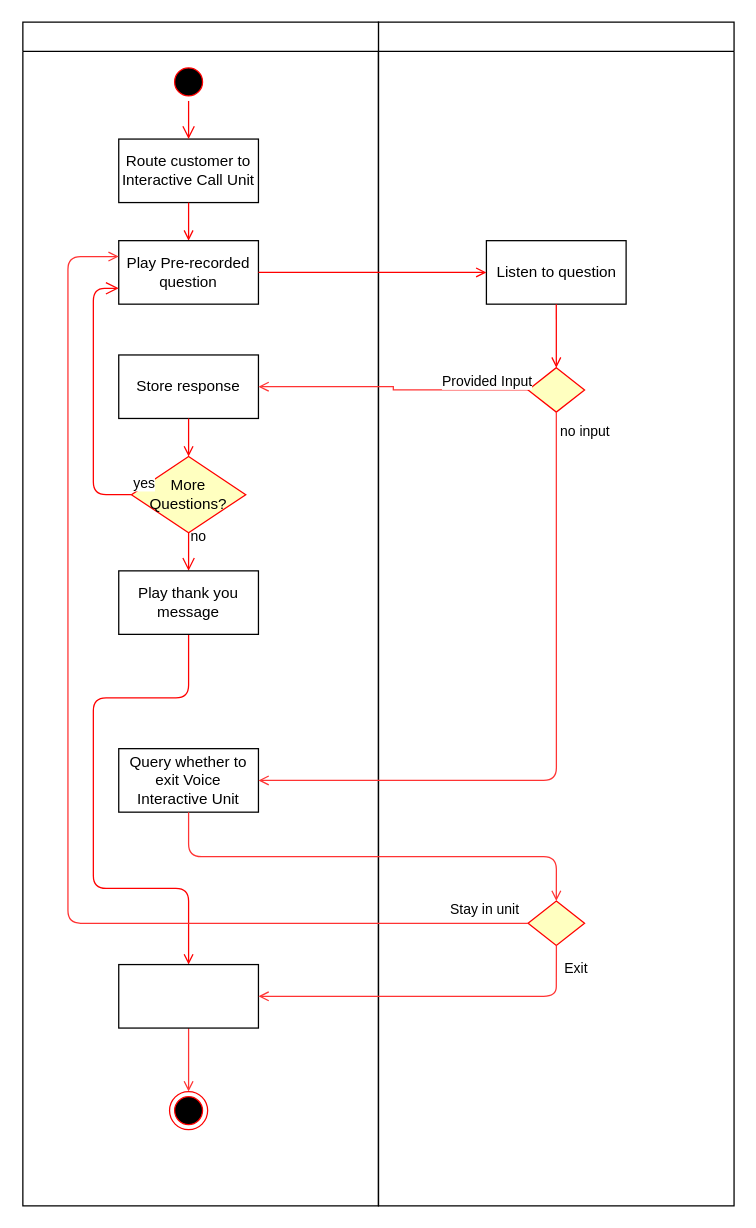
The diagram is 756 pixels wide and 1228 high, and some of its shapes have lost their labels. The shapes that lost their labels are listed below. From the top down, each one's box as (x1, y1, x2, y2) in pixels, then its label:
(22, 21, 378, 1206): Call Management System
(377, 21, 734, 1206): Customer
(117, 963, 258, 1028): Return Customer to Queue
